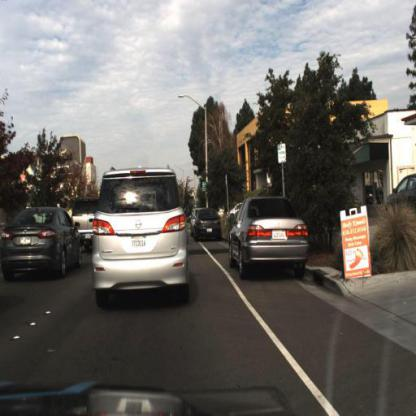car: (84, 160, 199, 324), (227, 193, 326, 293), (1, 199, 85, 291), (70, 188, 104, 262), (383, 168, 416, 215), (191, 206, 224, 248)
